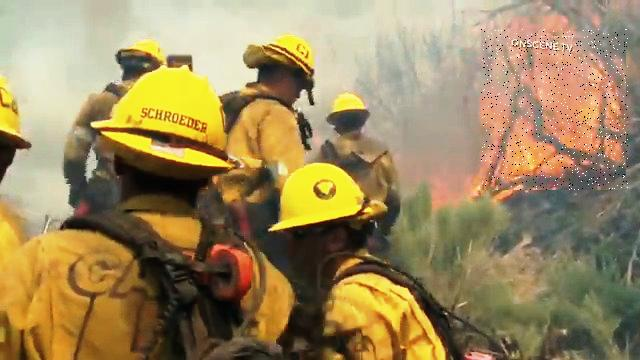fire: (482, 29, 629, 190)
